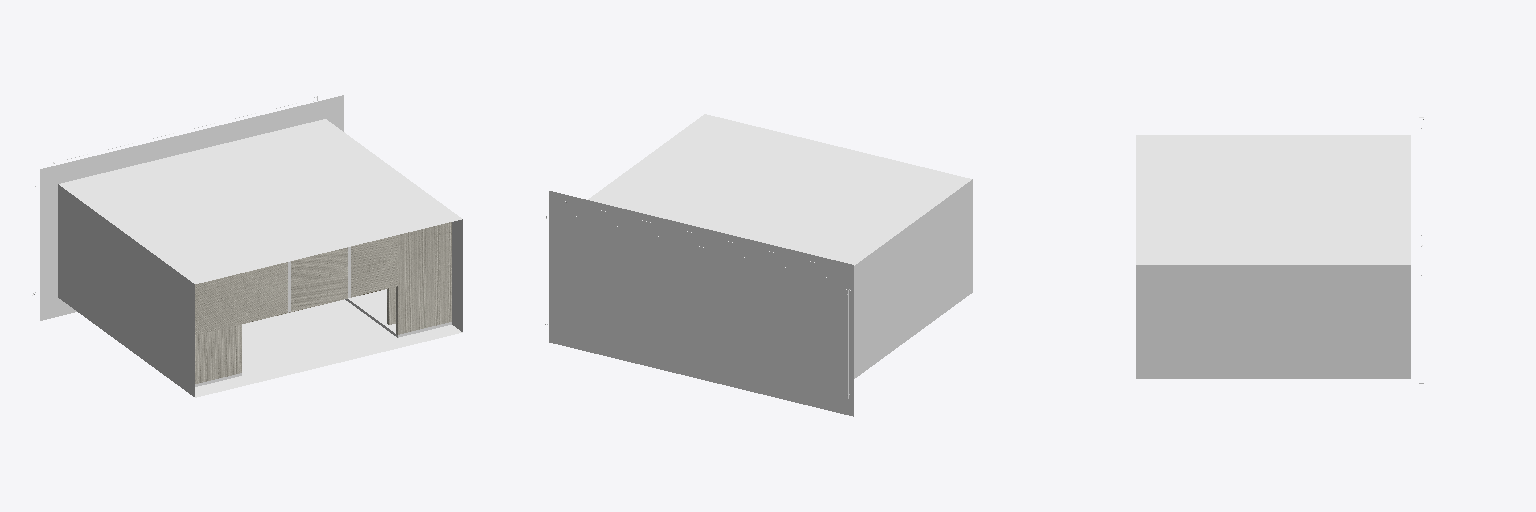
The picture shows the model from 3 angles: view 1: azimuth 30°, elevation 25°; view 2: azimuth 150°, elevation 25°; view 3: azimuth 270°, elevation 25°; orthographic projection.
Parts seen in each view (by area): view 1: Object_194, Object_193, Object_197, Object_198, Object_148, Object_103, Object_4, Object_147, Object_208, Object_102, Object_195, Object_91 (+2 smaller); view 2: Object_194, Object_191, Object_193, Object_198, Object_206, Object_200, Object_208, Object_202, Object_204; view 3: Object_194, Object_195.
Boxes of the visible parts, box(x1,y1,x2,y2) form: Object_194: box(59, 119, 461, 283); Object_193: box(58, 184, 194, 396); Object_197: box(242, 301, 402, 382); Object_198: box(40, 95, 343, 183); Object_148: box(398, 222, 451, 334); Object_103: box(195, 262, 287, 334); Object_4: box(291, 247, 347, 311); Object_147: box(351, 235, 397, 296); Object_208: box(40, 170, 57, 319); Object_102: box(195, 324, 240, 383); Object_195: box(452, 219, 462, 331); Object_91: box(345, 289, 451, 337); Object_194: box(576, 114, 971, 277); Object_191: box(568, 215, 834, 392); Object_193: box(854, 179, 972, 378); Object_198: box(550, 191, 852, 279); Object_206: box(627, 342, 775, 397); Object_200: box(549, 191, 567, 341); Object_208: box(835, 265, 853, 415); Object_202: box(776, 379, 853, 416); Object_204: box(549, 328, 626, 360); Object_194: box(1136, 135, 1410, 264); Object_195: box(1136, 265, 1410, 378).
Bounding box in the file's own units: 3343 × 1586 × 2715.
13 materials, 3 textured.